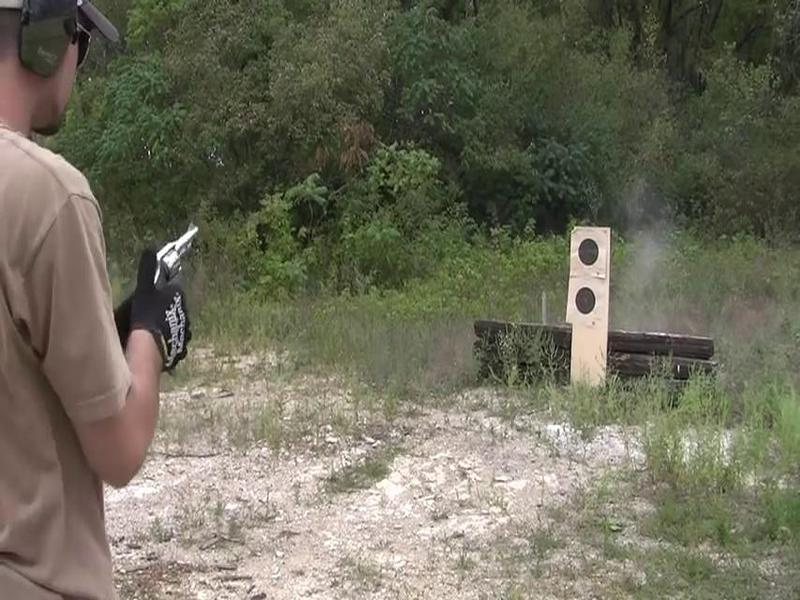Revolver: (143, 214, 217, 308)
